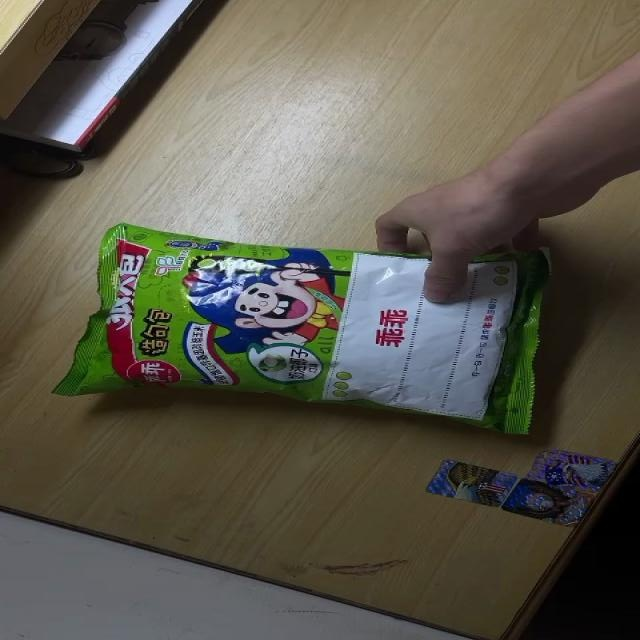Good-Luck: (52, 224, 558, 436)
